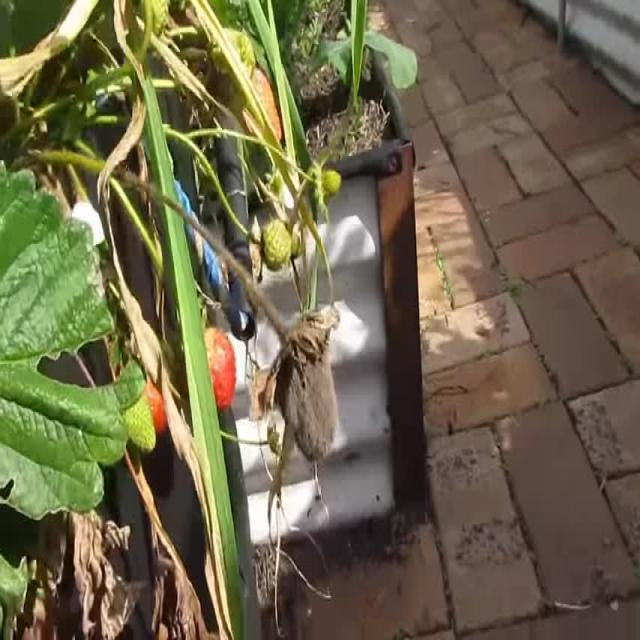Fruta sana: (193, 324, 236, 412), (114, 381, 156, 455), (260, 223, 295, 271)
Moho gris: (270, 317, 341, 463)
